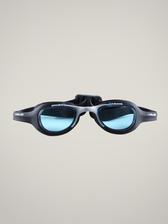glasses: (11, 93, 161, 131)
